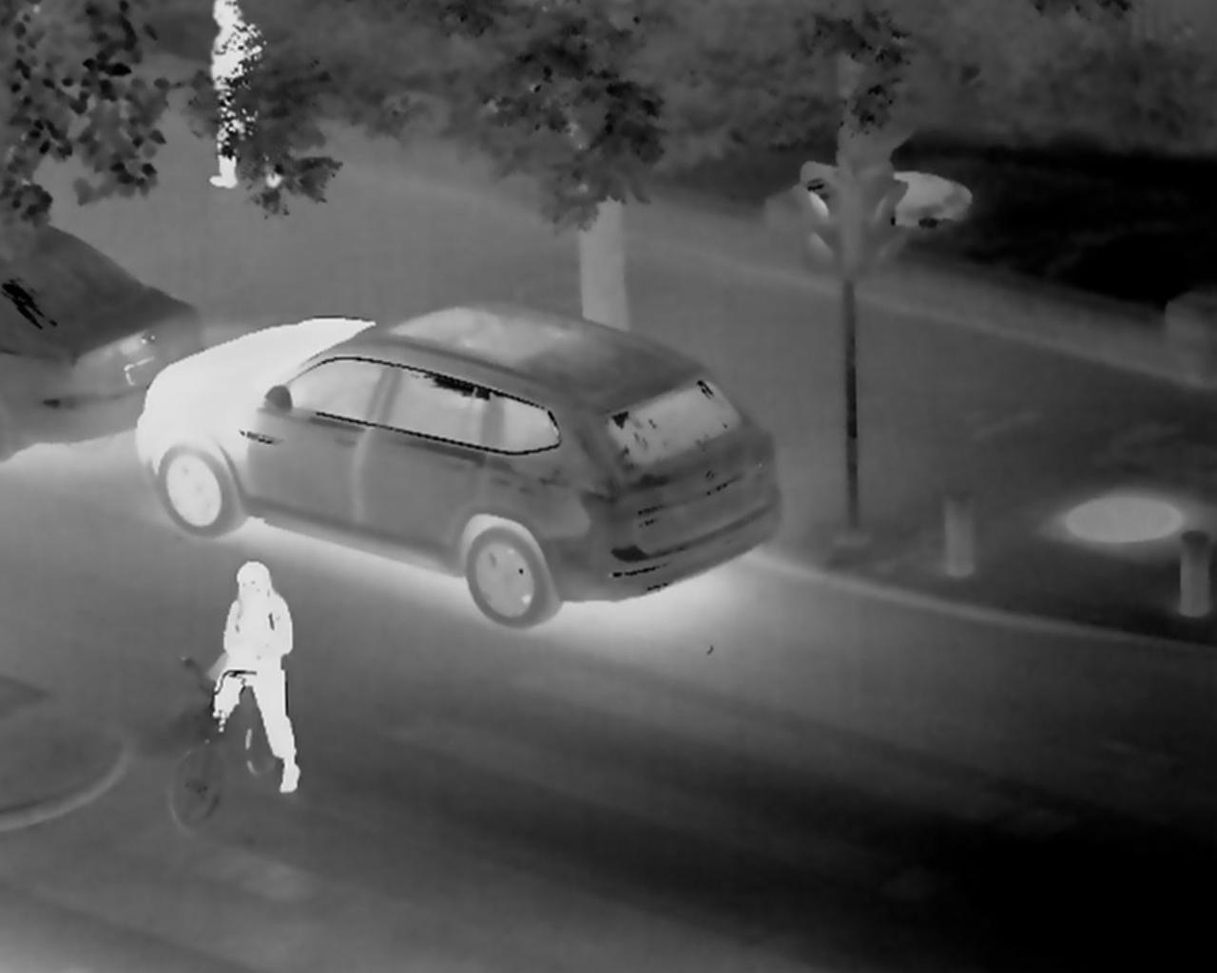person: (207, 551, 305, 806), (196, 2, 288, 192)
